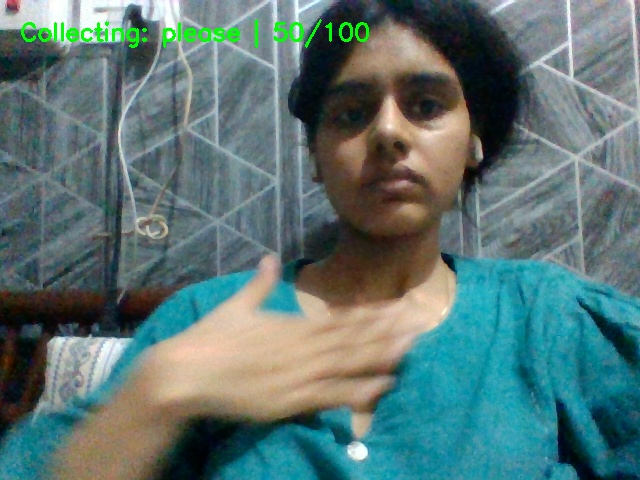please: (143, 252, 424, 439)
